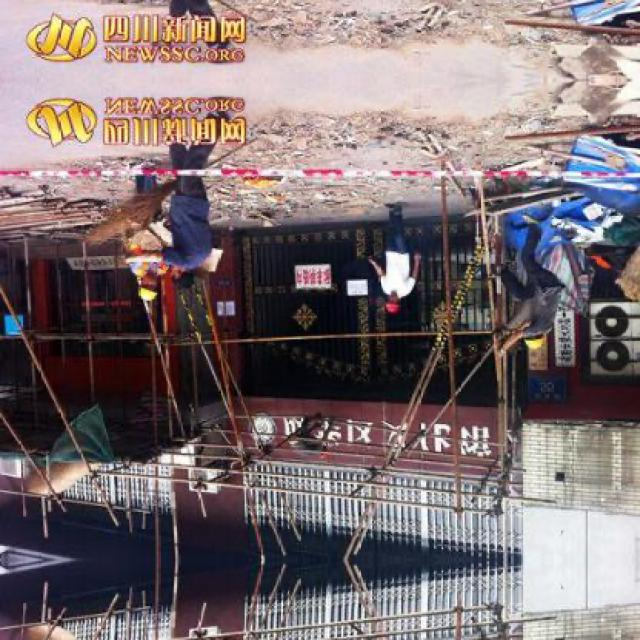con casco: (379, 279, 419, 327)
